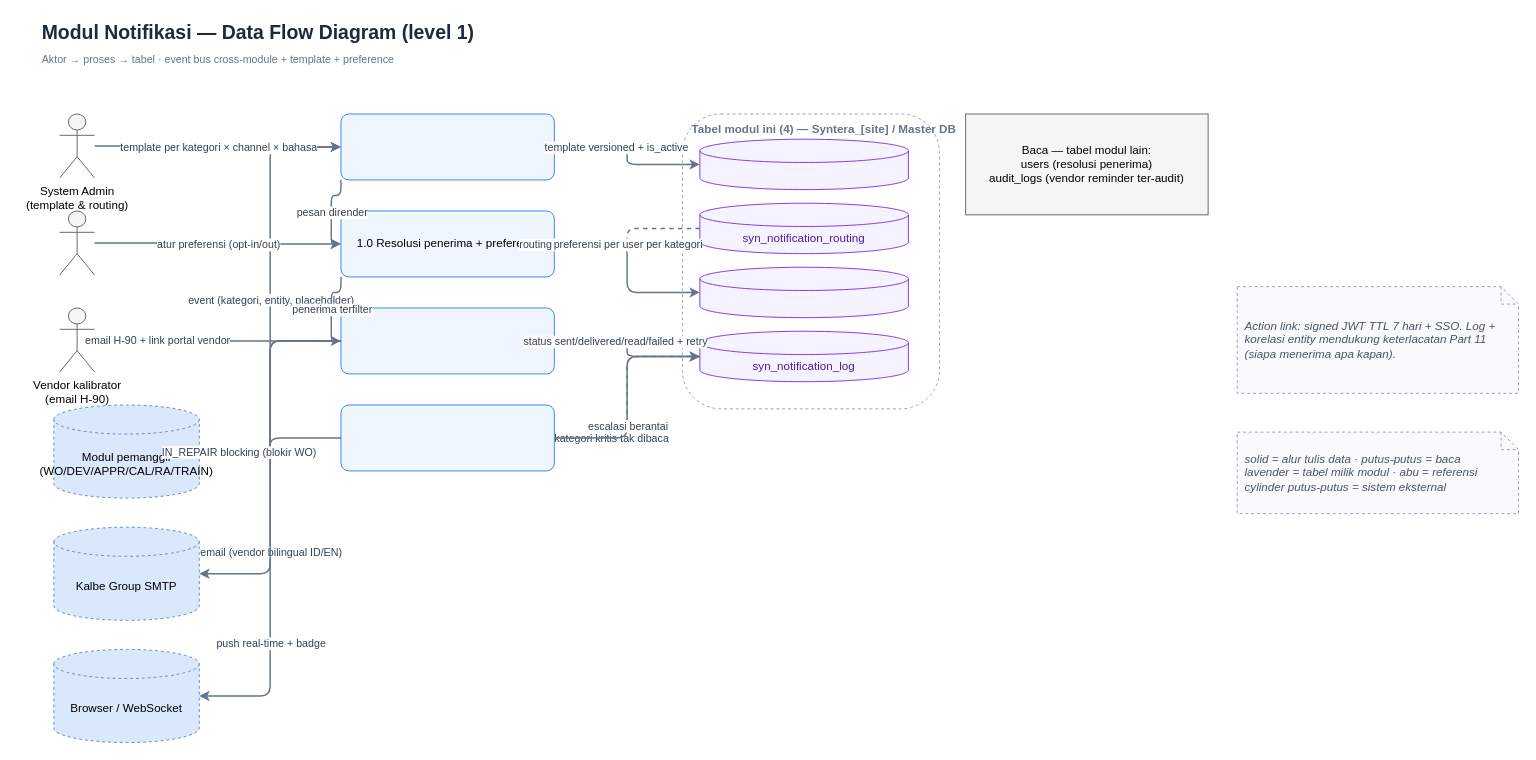
This 1536x760 diagram has some shape labels left out. Each missing label, with the centre of its shape:
"0.0 Event ingestion & template render" goes at (447,146).
"2.0 Kirim in-app + email (retry)" goes at (447,340).
"3.0 Escalasi & blocking alert" goes at (447,437).
"syn_notification_preference" goes at (803,292).
"syn_notification_template" goes at (803,164).
"User Syntera (penerima + preferensi)" goes at (77,242).
